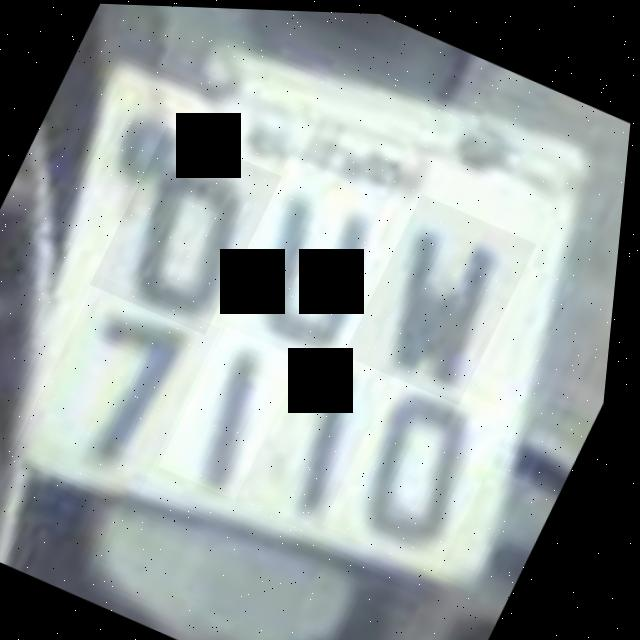0: (329, 358, 527, 573)
1: (165, 323, 312, 499), (261, 355, 406, 527)
7: (21, 273, 230, 498)
O: (92, 123, 288, 335)
U: (220, 152, 434, 373)
W: (347, 189, 545, 403)
